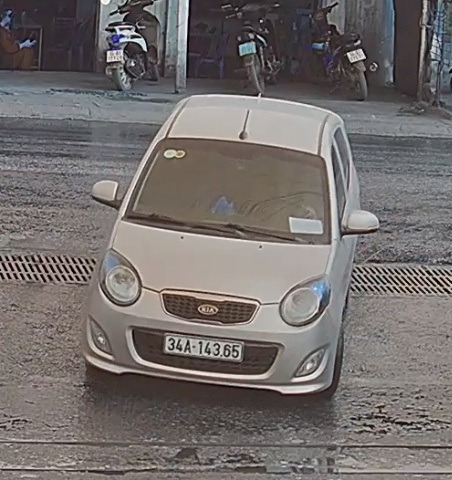vehicle plate: (161, 327, 249, 364)
